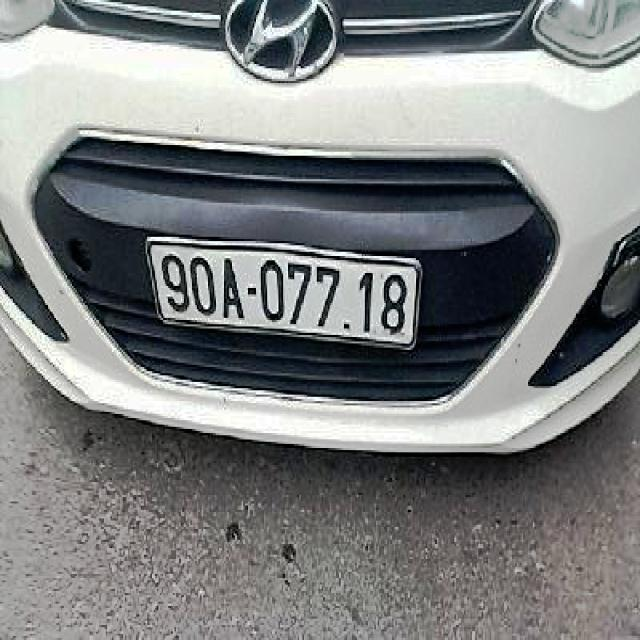license_plate: (149, 242, 420, 346)
